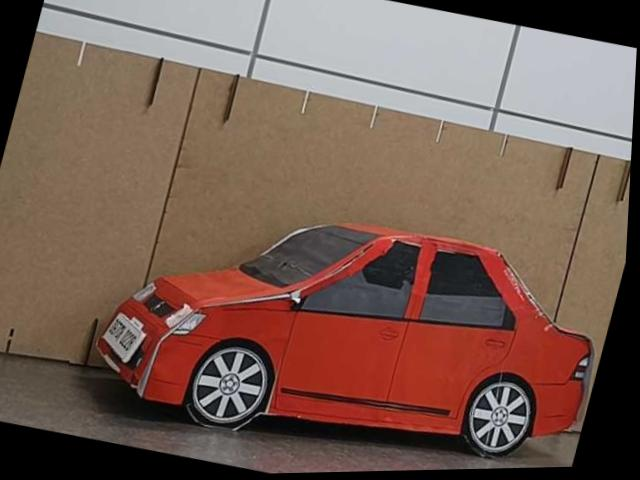car: (69, 161, 627, 478)
id: (94, 307, 152, 367)
